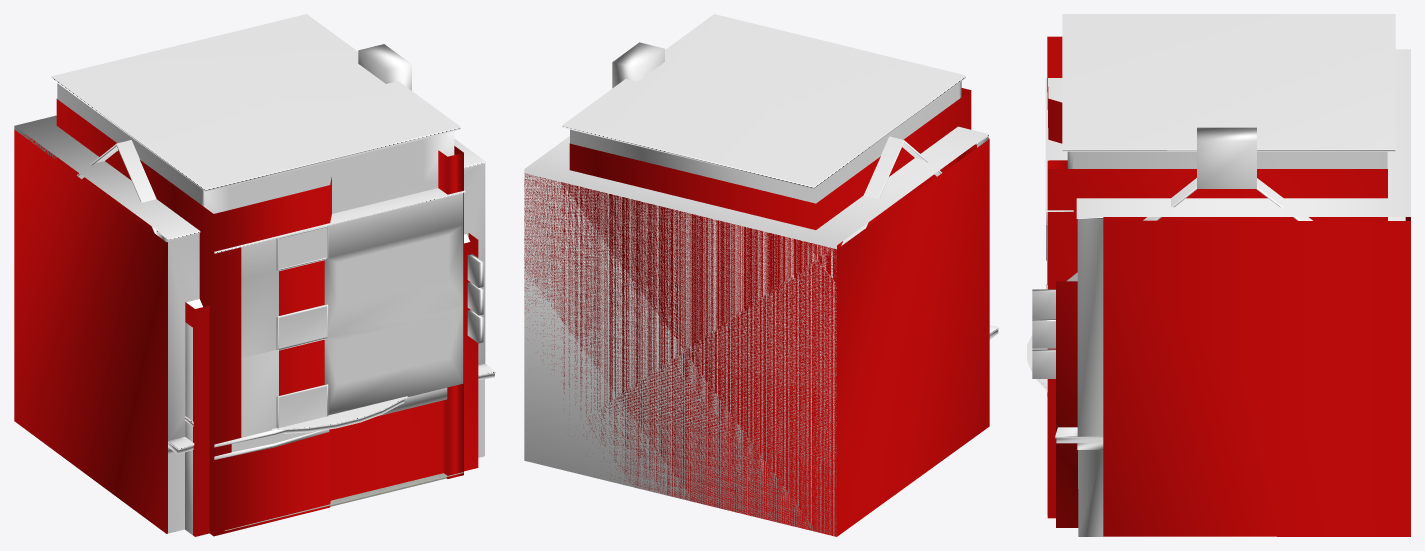
The model's file is geschaefte_01.fbx.
3 renders of one model, left to right at view 1: azimuth 30°, elevation 25°; view 2: azimuth 150°, elevation 25°; view 3: azimuth 270°, elevation 25°, orthographic. The views are drawn at different scales.
Visible parts, largest first — view 1: geschaeft_01b, colmesh_geschaeft_01a, colmesh_geschaeft_01b, geschaeft_01a, colmesh_geschaeft_01c, geschaeft_01c; view 2: colmesh_geschaeft_01a, geschaeft_01a, geschaeft_01b, colmesh_geschaeft_01b, geschaeft_01c; view 3: colmesh_geschaeft_01a, geschaeft_01b, geschaeft_01a, colmesh_geschaeft_01b, geschaeft_01c, colmesh_geschaeft_01c.
Part boxes in pixels (x1,y1,x2,y2): geschaeft_01b: [51, 14, 465, 530]; colmesh_geschaeft_01a: [14, 130, 167, 533]; colmesh_geschaeft_01b: [56, 99, 463, 536]; geschaeft_01a: [14, 115, 495, 533]; colmesh_geschaeft_01c: [185, 233, 478, 536]; geschaeft_01c: [77, 44, 483, 534]; colmesh_geschaeft_01a: [524, 138, 989, 536]; geschaeft_01a: [524, 126, 998, 535]; geschaeft_01b: [562, 14, 971, 203]; colmesh_geschaeft_01b: [569, 88, 971, 248]; geschaeft_01c: [612, 42, 942, 245]; colmesh_geschaeft_01a: [1103, 217, 1410, 536]; geschaeft_01b: [1045, 14, 1395, 514]; geschaeft_01a: [1027, 49, 1410, 536]; colmesh_geschaeft_01b: [1047, 36, 1387, 518]; geschaeft_01c: [1032, 127, 1405, 378]; colmesh_geschaeft_01c: [1056, 281, 1078, 527].
Bounding box in the file's own units: 1017 × 1108 × 980.
